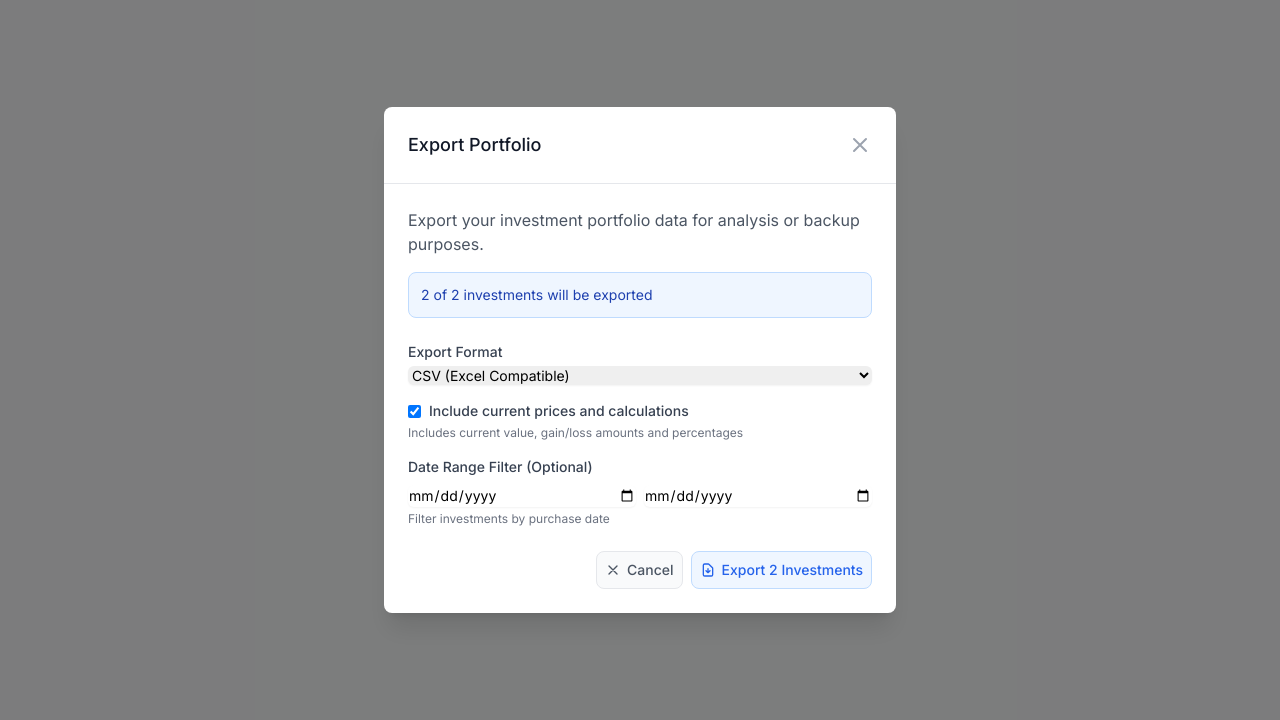
Test case: ExportPortfolio › should update filtered count when date range is applied
Type "2023-01-01" into the date field with placeholder "From date" at coordinates (522, 496), box [408,485,636,507]
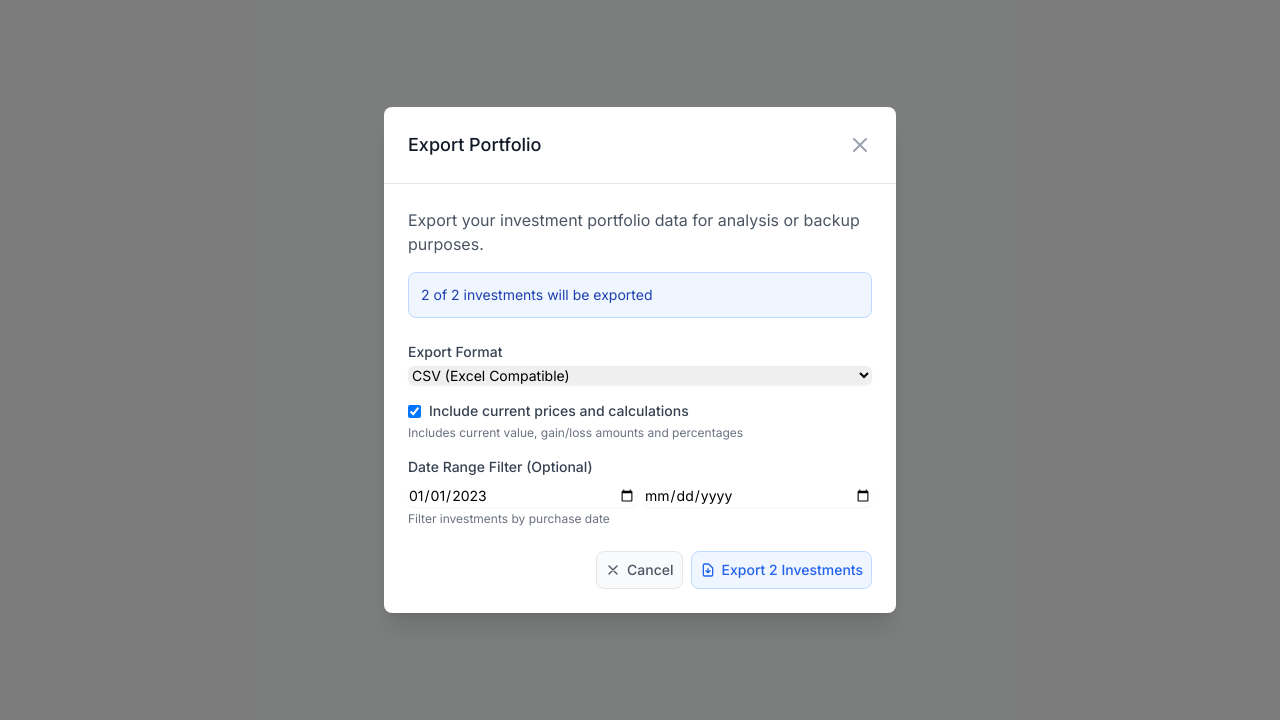
Type "2023-01-31" into the date field with placeholder "To date" at coordinates (758, 496), box [644,485,872,507]
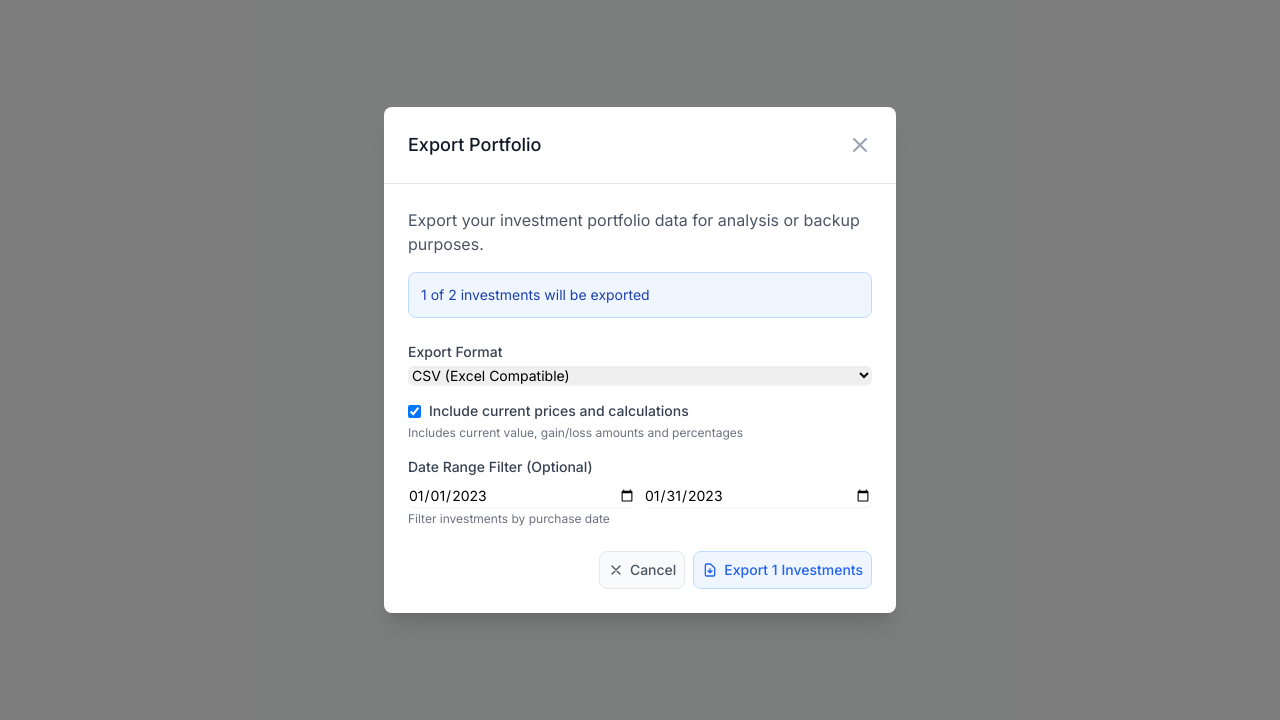
Now the text "1 of 2 investments will be exported" is shown, box [421,286,650,303]
